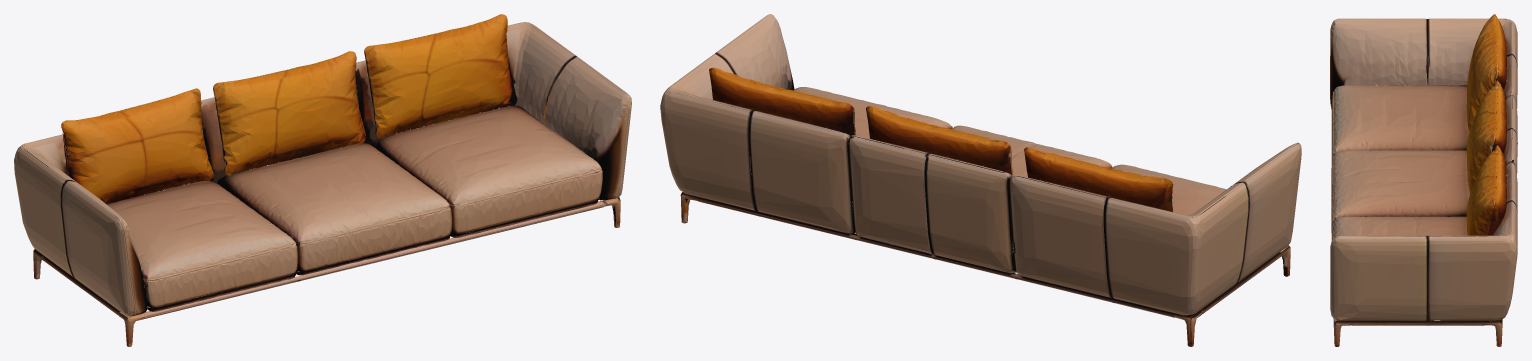
The model's file is edited_mesh.glb.
3 views of the same model, side by side, from view 1: azimuth 30°, elevation 25°; view 2: azimuth 150°, elevation 25°; view 3: azimuth 270°, elevation 25° (orthographic). The views are drawn at different scales.
Parts seen in each view (by area): view 1: solid_001_wire; view 2: solid_001_wire; view 3: solid_001_wire.
Boxes of the visible parts, x1,y1,x2,y2 form: solid_001_wire: (14, 14, 631, 346); solid_001_wire: (660, 14, 1301, 346); solid_001_wire: (1330, 14, 1517, 346).
Bounding box in the file's own units: 2 × 0.5632 × 0.7137.
1 material, 1 textured.
